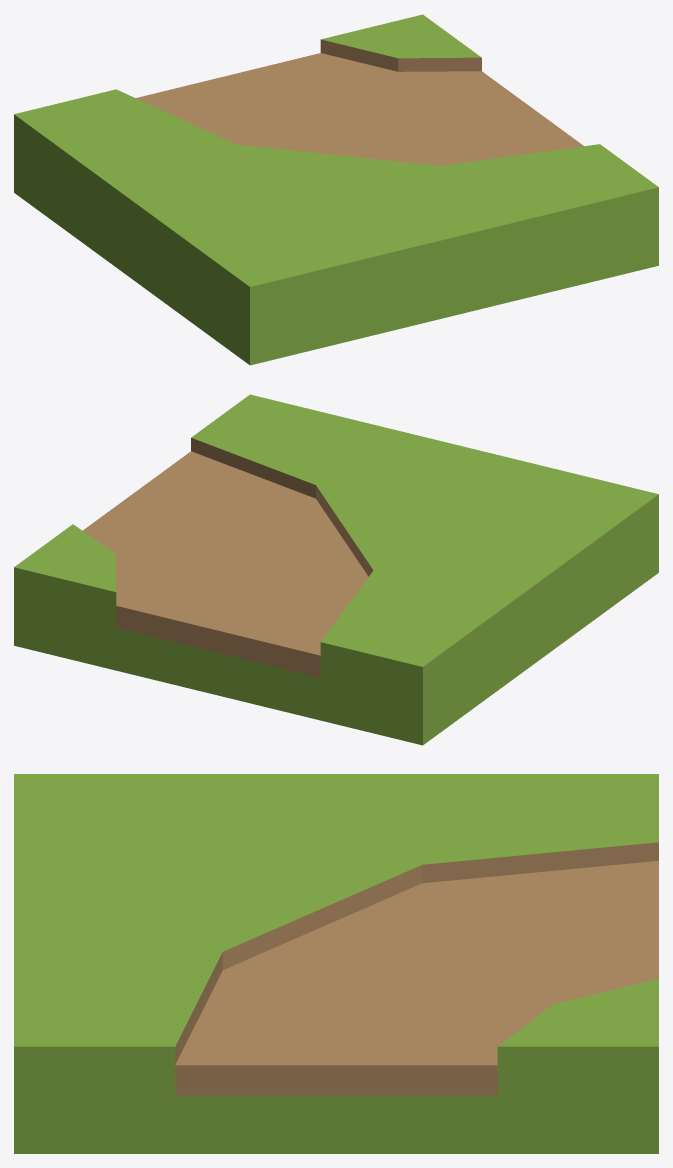
File: roadTile_022.fbx
3 renders of one model, top to bottom at view 1: azimuth 30°, elevation 25°; view 2: azimuth 150°, elevation 25°; view 3: azimuth 270°, elevation 25°, orthographic. The views are drawn at different scales.
Visible parts, largest first — view 1: roadTile_022; view 2: roadTile_022; view 3: roadTile_022.
Boxes of the visible parts, x1,y1,x2,y2 form: roadTile_022: [14, 14, 658, 365]; roadTile_022: [14, 394, 658, 745]; roadTile_022: [14, 774, 658, 1153].
Bounding box in the file's own units: 118 × 21.65 × 118.
